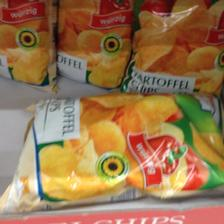Chips: (10, 92, 222, 212), (122, 0, 222, 94), (57, 0, 127, 88), (1, 0, 56, 90)
